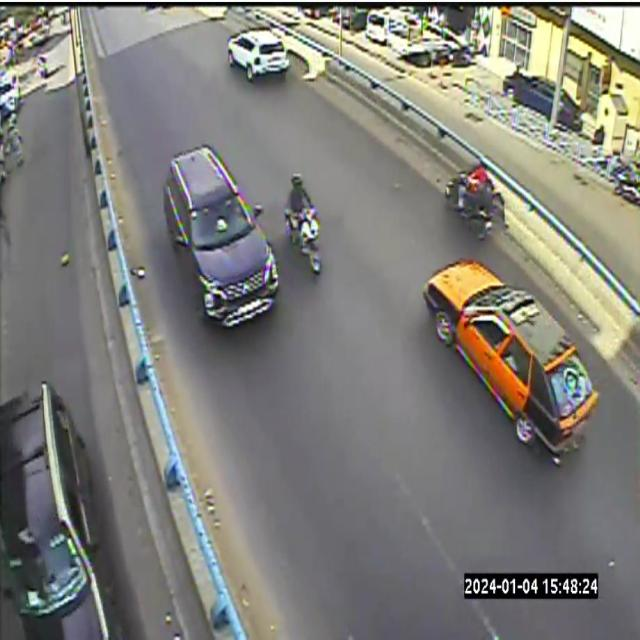car: (423, 260, 598, 461), (163, 144, 278, 326), (227, 30, 289, 81)
